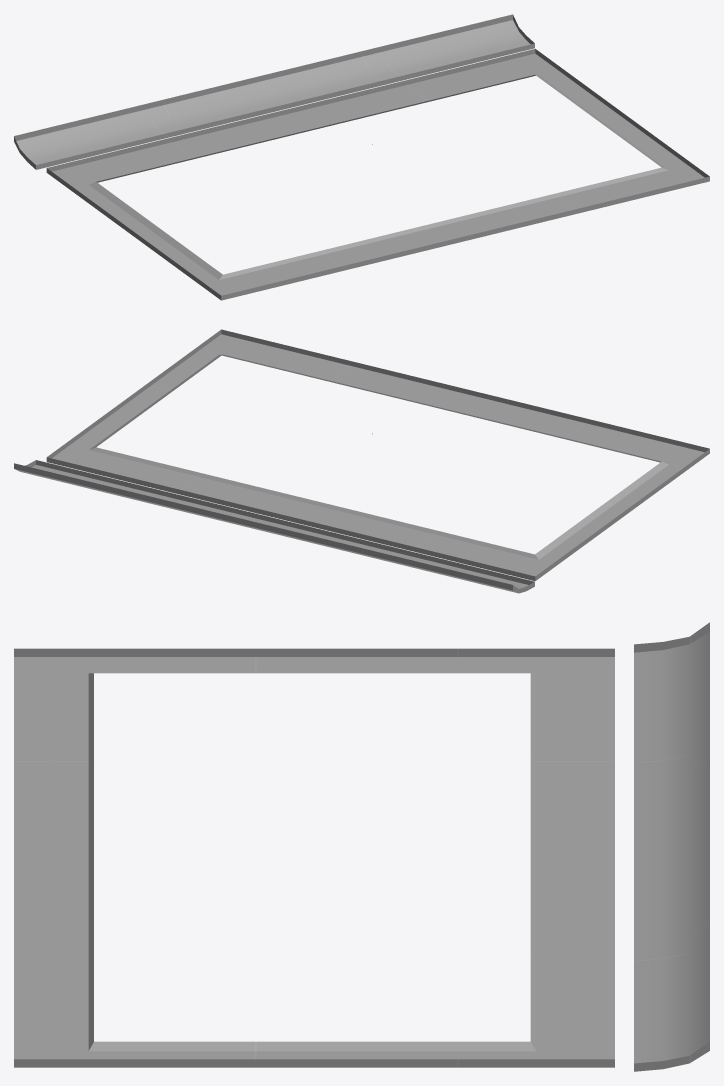
Rendered from MeshTelevision_27_0_GeomSubset_1.obj.
The picture shows the model from 3 angles, top to bottom: view 1: azimuth 30°, elevation 25°; view 2: azimuth 150°, elevation 25°; view 3: azimuth 270°, elevation 25°; orthographic projection. The views are drawn at different scales.
Visible parts, largest first — view 1: MeshTelevision_27_0_GeomSubset_1; view 2: MeshTelevision_27_0_GeomSubset_1; view 3: MeshTelevision_27_0_GeomSubset_1.
Part boxes in pixels (x1,y1,x2,y2): MeshTelevision_27_0_GeomSubset_1: [14, 14, 709, 300]; MeshTelevision_27_0_GeomSubset_1: [14, 329, 709, 593]; MeshTelevision_27_0_GeomSubset_1: [14, 622, 709, 1071].
Bounding box in the file's own units: 1.68 × 0.0924 × 1.18.
Materials: 1 (1 with a texture image).
